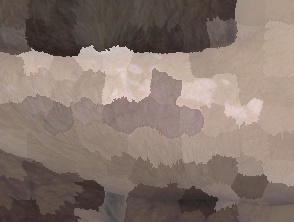vitiligo: (0, 39, 280, 164)
